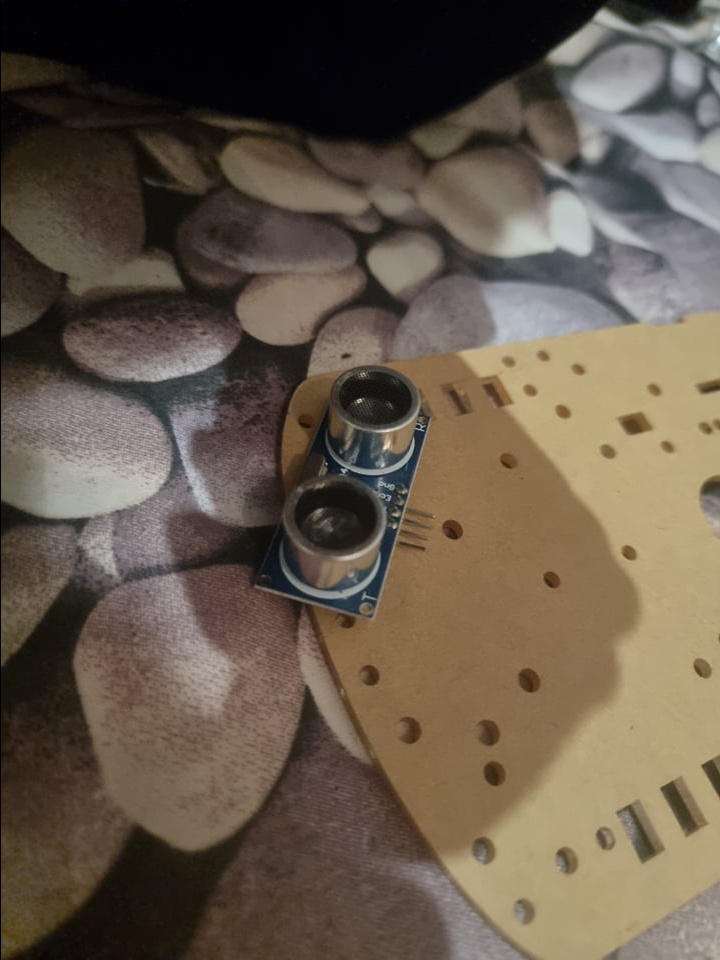SENSOR: (251, 360, 430, 622)
